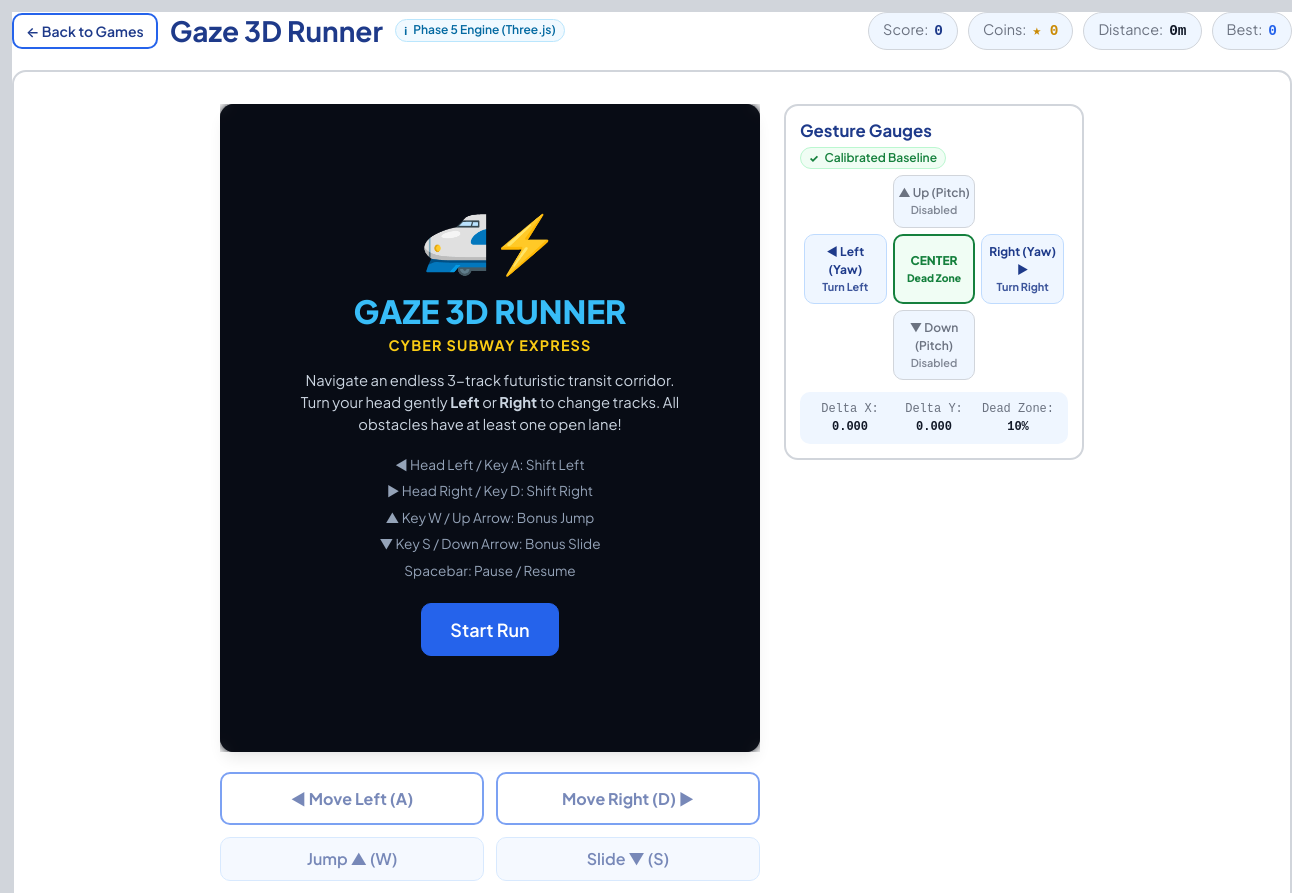
Test: Gaze3DRunner Component & Integration › 8. Verifies that single action exclusivity prevents combining LEFT with DOWN/slide on head gesture
The image size is (1292, 893).
# Start game
Click the button "Start Run" at coordinates (490, 630), box x1=421 y1=603 x2=559 y2=656
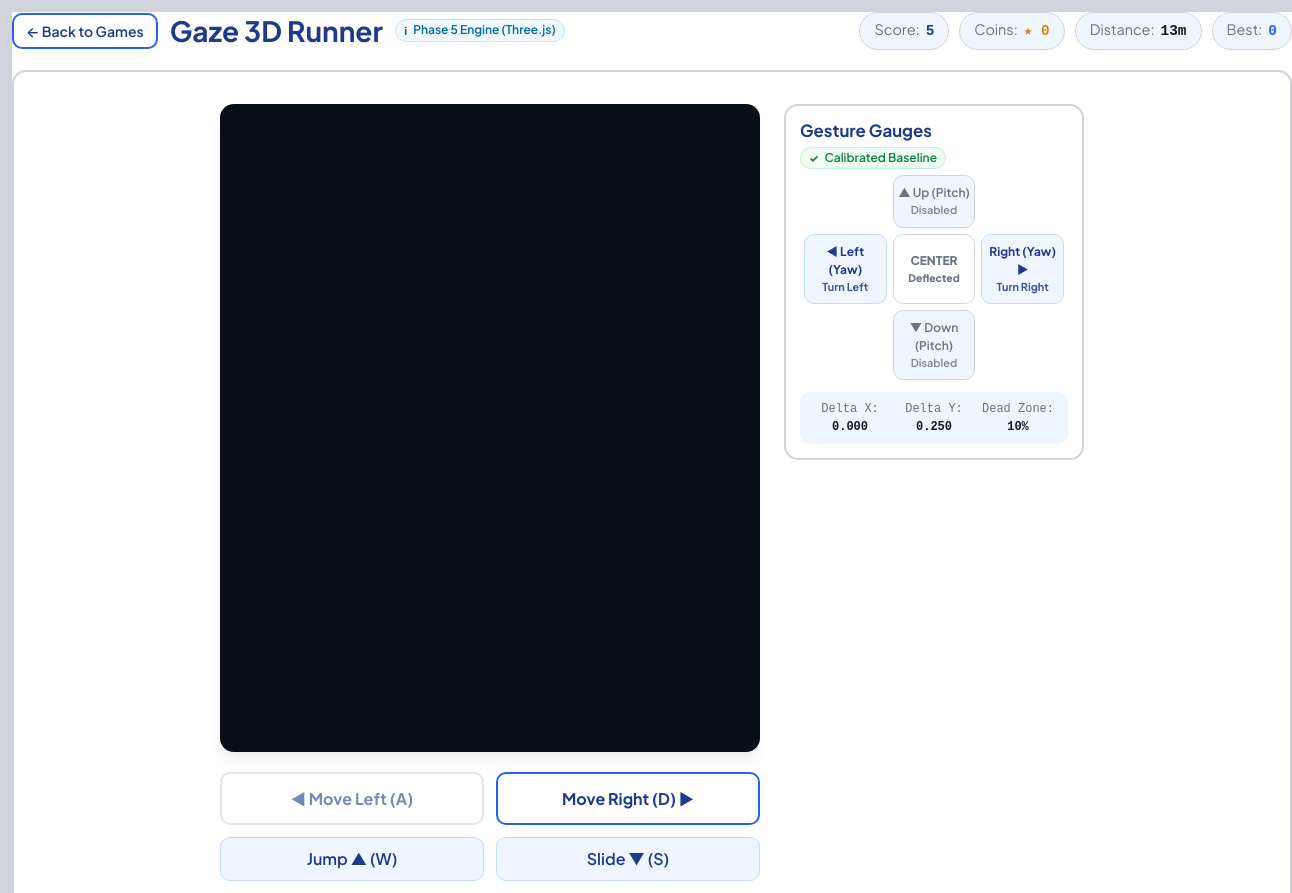
Expected: the button "Slide ▼ (S)" is enabled, x1=496 y1=837 x2=760 y2=881
